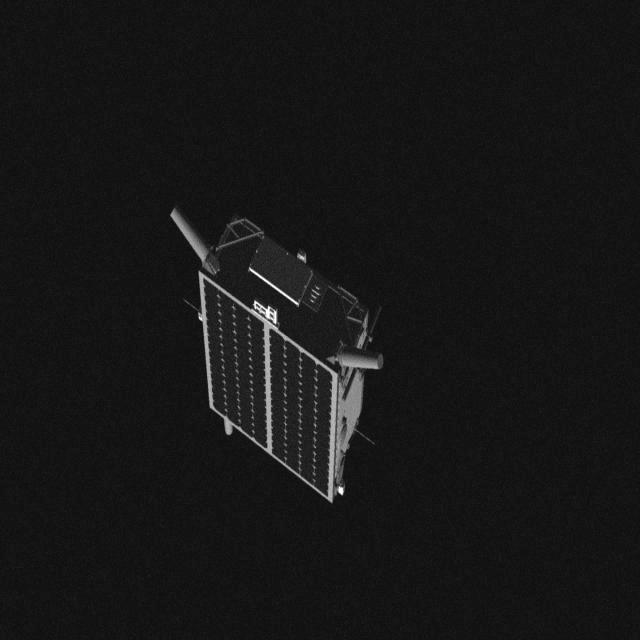medium_debris: (160, 196, 382, 506)
